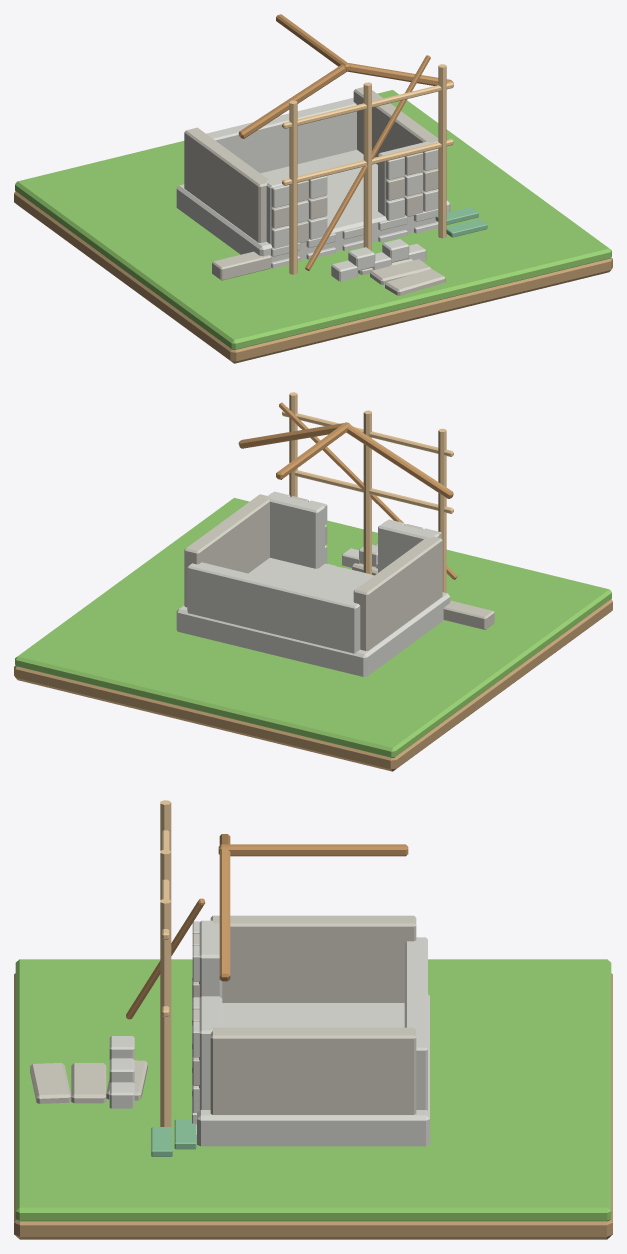
The model's file is stone_house_l02_construction.glb.
The picture shows the model from 3 angles, top to bottom: view 1: azimuth 30°, elevation 25°; view 2: azimuth 150°, elevation 25°; view 3: azimuth 270°, elevation 25°; orthographic projection. The views are drawn at different scales.
Parts seen in each view (by area): view 1: stone_house_component_pilot_grass_tile.001, stone_house_component_pilot_earth_tile.001, pilot_stone_house_l02_foundation_stone_block_medium_medium_f, pilot_stone_house_l02_side_wall_-1, pilot_stone_house_l02_rear_wall, pilot_stone_house_l02_side_wall_1, pilot_stone_house_l02_scaffold_scaffold_post_-0.7, pilot_stone_house_l02_scaffold_scaffold_post_0.7, pilot_stone_house_l02_scaffold_scaffold_post_0.0, pilot_stone_house_l02_scaffold_scaffold_brace, pilot_stone_house_l02_carved_lintel_stock, pilot_stone_house_l02_roof_rafter_-1 (+11 smaller); view 2: stone_house_component_pilot_grass_tile.001, pilot_stone_house_l02_rear_wall, pilot_stone_house_l02_foundation_stone_block_medium_medium_f, stone_house_component_pilot_earth_tile.001, pilot_stone_house_l02_side_wall_-1, pilot_stone_house_l02_side_wall_1, pilot_stone_house_l02_front_wall_1, pilot_stone_house_l02_front_wall_-1, pilot_stone_house_l02_scaffold_scaffold_post_0.0, pilot_stone_house_l02_roof_rafter_-1, pilot_stone_house_l02_scaffold_scaffold_post_-0.7, pilot_stone_house_l02_carved_lintel_stock (+6 smaller); view 3: stone_house_component_pilot_grass_tile.001, pilot_stone_house_l02_side_wall_1, pilot_stone_house_l02_side_wall_-1, pilot_stone_house_l02_foundation_stone_block_medium_medium_f, stone_house_component_pilot_earth_tile.001, pilot_stone_house_l02_rear_wall, pilot_stone_house_l02_scaffold_scaffold_post_0.7, pilot_stone_house_l02_ridge_beam, pilot_stone_house_l02_front_wall_1, pilot_stone_house_l02_front_wall_-1, pilot_stone_house_l02_roof_rafter_1, stone_house_component_pilot_path_stone_03.001 (+7 smaller).
Part boxes in pixels (x1,y1,x2,y2): stone_house_component_pilot_grass_tile.001: (15, 90, 611, 349); stone_house_component_pilot_earth_tile.001: (14, 191, 612, 363); pilot_stone_house_l02_foundation_stone_block_medium_medium_f: (176, 150, 450, 262); pilot_stone_house_l02_side_wall_-1: (184, 127, 268, 242); pilot_stone_house_l02_rear_wall: (206, 97, 356, 173); pilot_stone_house_l02_side_wall_1: (353, 87, 438, 164); pilot_stone_house_l02_scaffold_scaffold_post_-0.7: (289, 100, 297, 274); pilot_stone_house_l02_scaffold_scaffold_post_0.7: (438, 64, 446, 238); pilot_stone_house_l02_scaffold_scaffold_post_0.0: (363, 82, 371, 250); pilot_stone_house_l02_scaffold_scaffold_brace: (305, 55, 430, 270); pilot_stone_house_l02_carved_lintel_stock: (212, 251, 271, 280); pilot_stone_house_l02_roof_rafter_-1: (238, 64, 346, 138); stone_house_component_pilot_grass_tile.001: (15, 498, 611, 757); pilot_stone_house_l02_rear_wall: (187, 562, 360, 653); pilot_stone_house_l02_foundation_stone_block_medium_medium_f: (176, 558, 450, 676); stone_house_component_pilot_earth_tile.001: (14, 599, 612, 771); pilot_stone_house_l02_side_wall_-1: (353, 536, 442, 650); pilot_stone_house_l02_side_wall_1: (184, 494, 270, 607); pilot_stone_house_l02_front_wall_1: (265, 493, 324, 568); pilot_stone_house_l02_front_wall_-1: (378, 521, 439, 572); pilot_stone_house_l02_scaffold_scaffold_post_0.0: (363, 410, 371, 574); pilot_stone_house_l02_roof_rafter_-1: (346, 424, 453, 498); pilot_stone_house_l02_scaffold_scaffold_post_-0.7: (438, 428, 446, 592); pilot_stone_house_l02_carved_lintel_stock: (443, 600, 494, 629); stone_house_component_pilot_grass_tile.001: (15, 959, 611, 1221); pilot_stone_house_l02_side_wall_1: (210, 1027, 416, 1114); pilot_stone_house_l02_side_wall_-1: (210, 915, 416, 1002); pilot_stone_house_l02_foundation_stone_block_medium_medium_f: (197, 994, 429, 1146); stone_house_component_pilot_earth_tile.001: (14, 973, 612, 1239); pilot_stone_house_l02_rear_wall: (404, 937, 427, 1110); pilot_stone_house_l02_scaffold_scaffold_post_0.7: (160, 899, 171, 1126); pilot_stone_house_l02_ridge_beam: (218, 844, 408, 856); pilot_stone_house_l02_front_wall_1: (199, 996, 222, 1109); pilot_stone_house_l02_front_wall_-1: (199, 920, 222, 998); pilot_stone_house_l02_roof_rafter_1: (219, 848, 230, 981); stone_house_component_pilot_path_stone_03.001: (30, 1063, 71, 1103).
Bounding box in the file's own units: 3.6 × 1.79 × 3.6.
